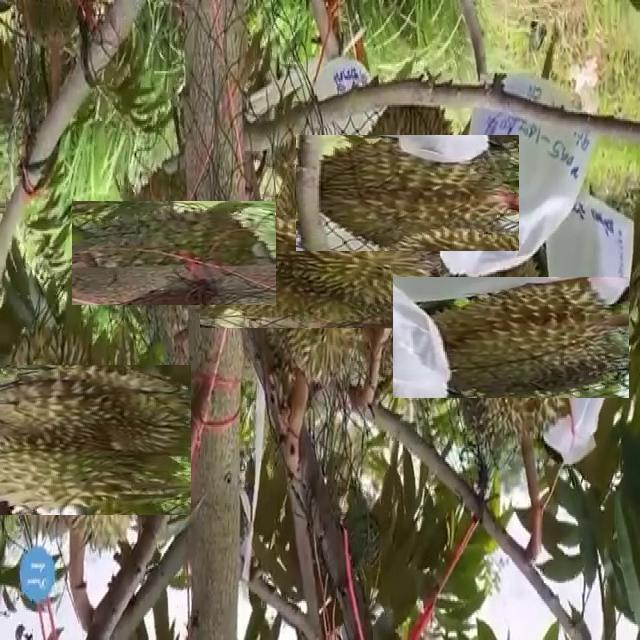durian: (0, 345, 172, 536), (421, 248, 601, 427), (232, 184, 408, 360), (323, 109, 492, 278), (97, 175, 251, 330)
